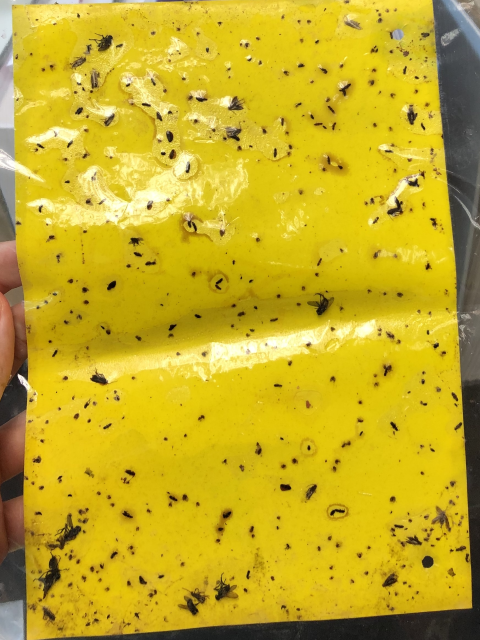DBM: (88, 367, 118, 389), (224, 93, 248, 113), (379, 571, 401, 591), (37, 602, 57, 624), (340, 16, 365, 33), (403, 103, 419, 128), (302, 481, 319, 502), (88, 67, 103, 90), (224, 121, 243, 139), (67, 53, 88, 69), (101, 111, 117, 129), (406, 536, 423, 548)
